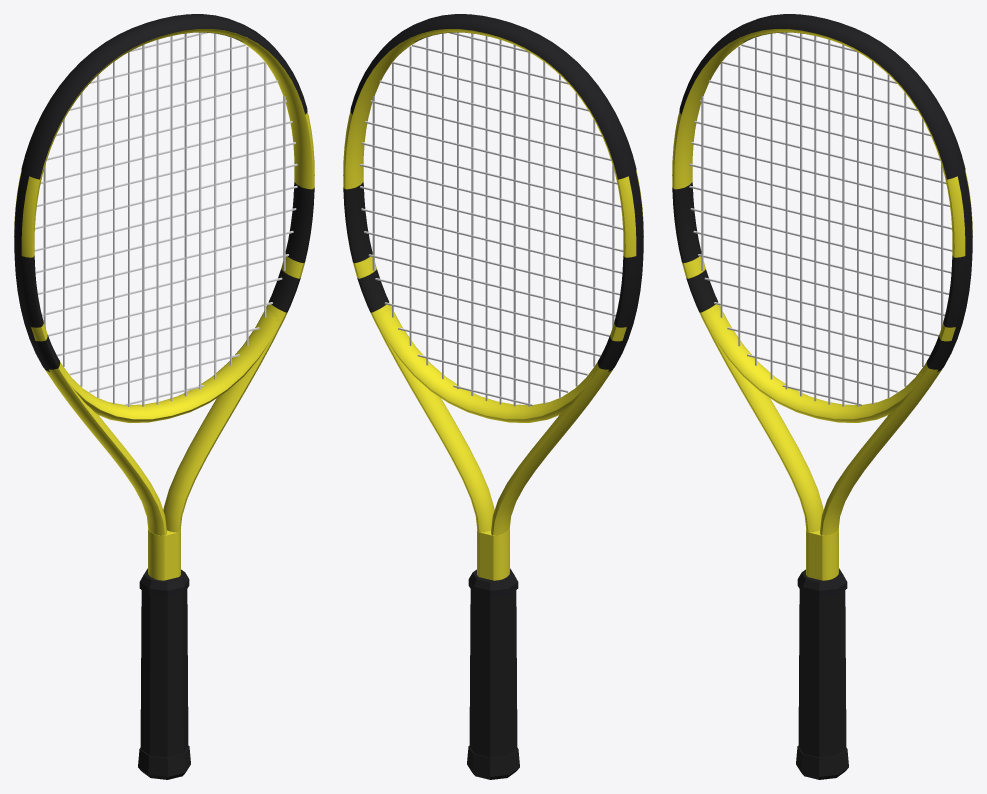
Rendered from babolat-aero-junior-26.glb.
The picture shows the model from 3 angles, left to right: view 1: azimuth 30°, elevation 25°; view 2: azimuth 150°, elevation 25°; view 3: azimuth 330°, elevation 25°; orthographic projection.
Visible parts, largest first — view 1: frame, strings_mains, strings_crosses, grip, bumper, grommets, butt_cap, collar; view 2: frame, strings_mains, strings_crosses, grip, bumper, grommets, butt_cap, collar; view 3: frame, strings_mains, strings_crosses, grip, bumper, grommets, butt_cap, collar.
Part boxes in pixels (x1,y1,x2,y2): frame: [14, 29, 314, 580]; strings_mains: [43, 32, 285, 406]; strings_crosses: [34, 32, 297, 405]; grip: [140, 589, 188, 757]; bumper: [21, 14, 307, 179]; grommets: [14, 171, 49, 371]; butt_cap: [138, 745, 190, 779]; collar: [139, 568, 189, 597]; frame: [343, 29, 643, 580]; strings_mains: [372, 32, 614, 406]; strings_crosses: [360, 32, 623, 406]; grip: [469, 589, 517, 757]; bumper: [350, 14, 636, 179]; grommets: [608, 171, 643, 371]; butt_cap: [467, 745, 519, 779]; collar: [468, 568, 518, 597]; frame: [672, 29, 972, 580]; strings_mains: [701, 32, 943, 406]; strings_crosses: [689, 32, 952, 405]; grip: [798, 589, 846, 757]; bumper: [679, 14, 965, 179]; grommets: [937, 171, 972, 371]; butt_cap: [796, 745, 848, 779]; collar: [797, 568, 847, 597].
Size of the model in its own units: 0.2718 by 0.6607 by 0.0396.
